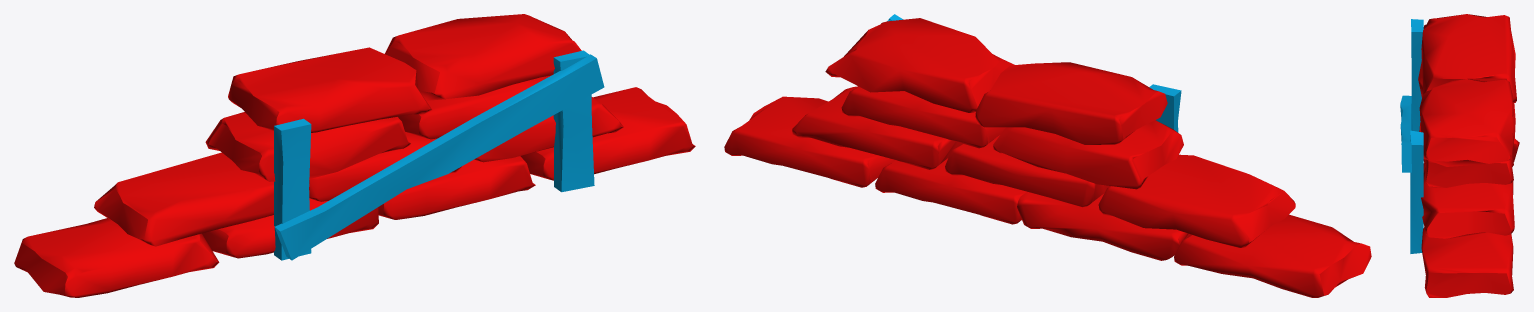
File: SandbagWall.fbx
3 views of the same model, side by side, from view 1: azimuth 30°, elevation 25°; view 2: azimuth 150°, elevation 25°; view 3: azimuth 270°, elevation 25° (orthographic). The views are drawn at different scales.
Visible parts, largest first — view 1: SandbagWall; view 2: SandbagWall; view 3: SandbagWall.
Part boxes in pixels (x1,y1,x2,y2): SandbagWall: (14,14,695,297); SandbagWall: (724,14,1371,297); SandbagWall: (1400,14,1519,297).
Bounding box in the file's own units: 5.2 × 1.16 × 1.01.
